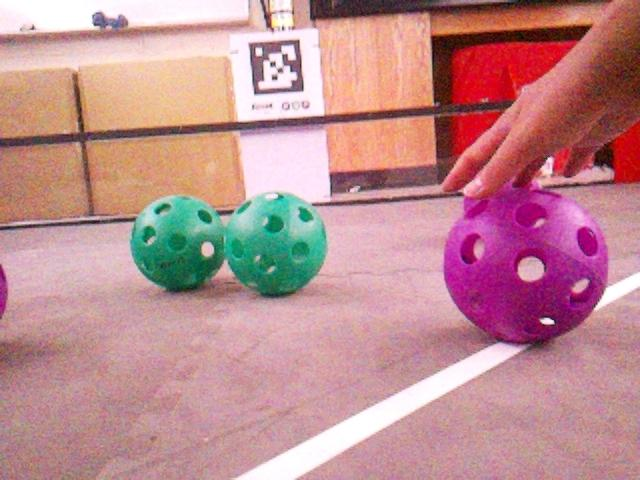Green: (223, 190, 327, 295), (127, 193, 226, 291)
Purple: (440, 188, 609, 346), (0, 263, 8, 317)
